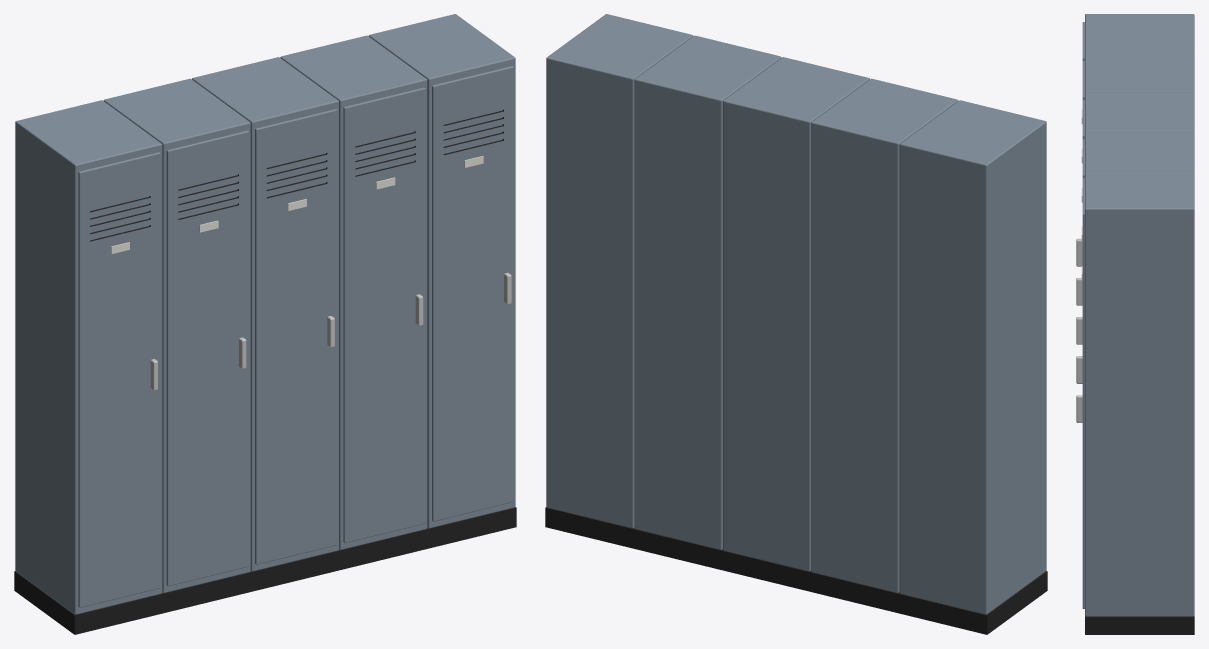
File: lockers.glb
The picture shows the model from 3 angles, left to right: view 1: azimuth 30°, elevation 25°; view 2: azimuth 150°, elevation 25°; view 3: azimuth 270°, elevation 25°; orthographic projection. The views are drawn at different scales.
Visible parts, largest first — view 1: Lockers; view 2: Lockers; view 3: Lockers.
Part boxes in pixels (bbox=[...]): Lockers: bbox=[14, 14, 516, 634]; Lockers: bbox=[545, 14, 1047, 634]; Lockers: bbox=[1076, 14, 1194, 634].
Bounding box in the file's own units: 1.9 × 1.93 × 0.485.
